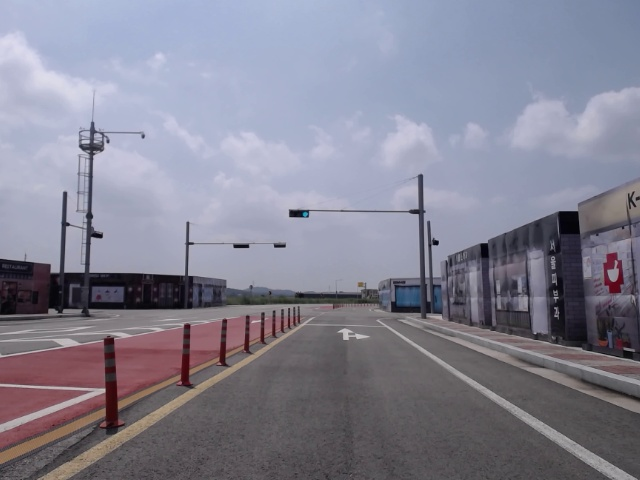green_3: (288, 209, 310, 218)
